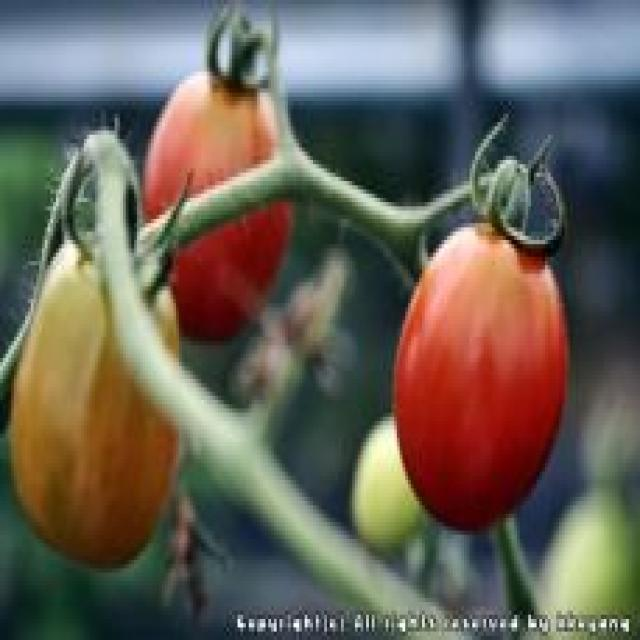level 4: (0, 230, 191, 573)
level 5: (133, 47, 302, 350)
level 6: (375, 187, 586, 540)
